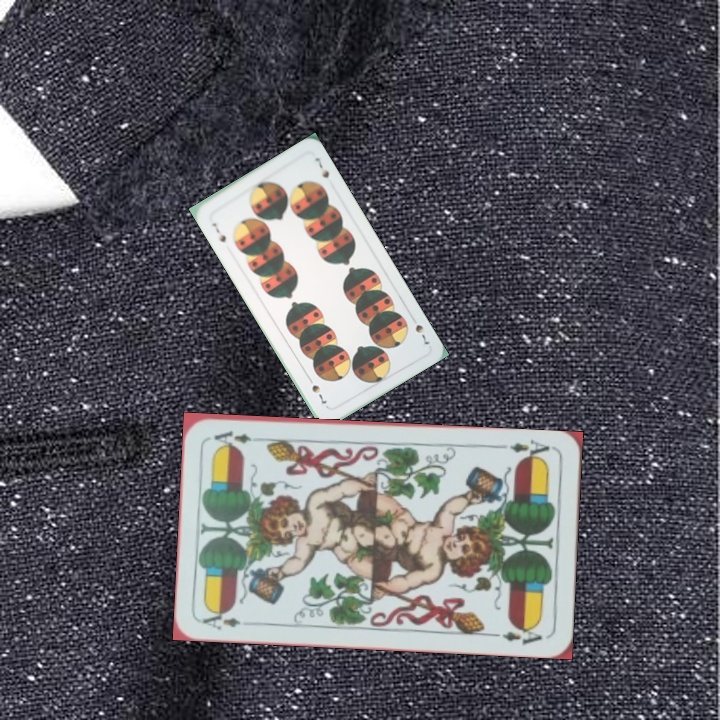EA: (506, 436, 556, 464), (198, 606, 243, 632)
S7: (411, 320, 432, 347), (208, 219, 228, 245)
